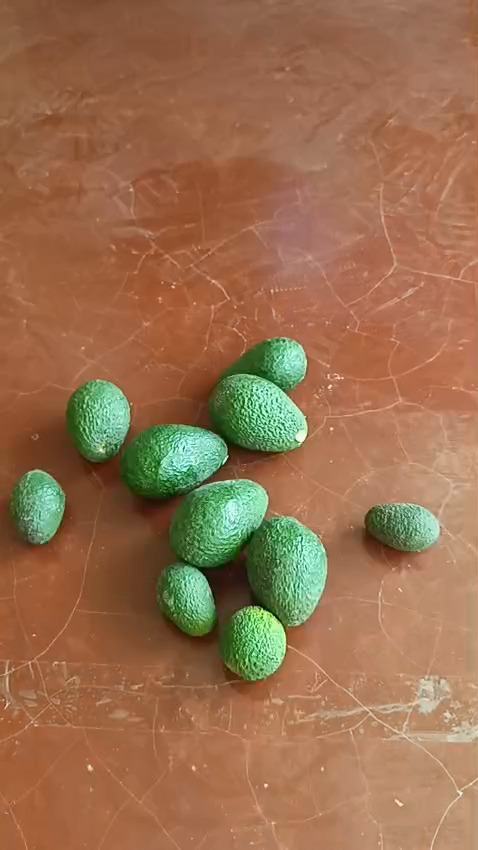Primera: (245, 515, 326, 625), (169, 479, 267, 567), (120, 422, 227, 497), (208, 373, 307, 452)
Segunda: (66, 379, 132, 461), (222, 338, 306, 392)
Tercera: (218, 604, 286, 679), (156, 561, 218, 637), (7, 468, 64, 542), (365, 502, 440, 551)
